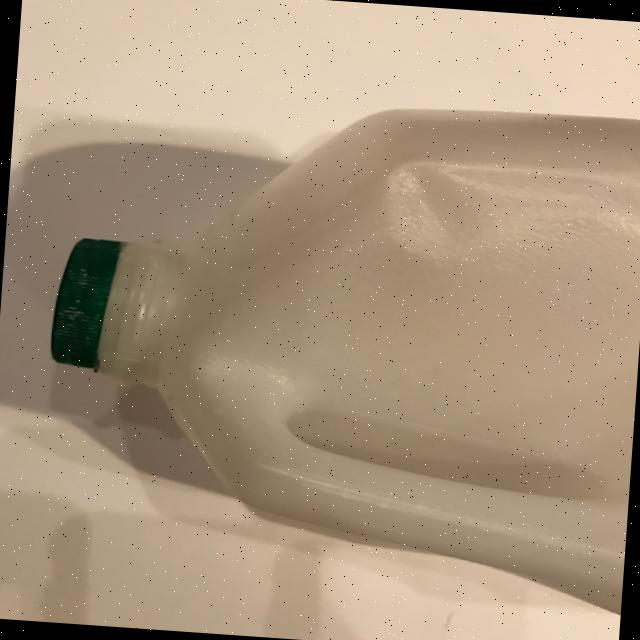plastic: (33, 77, 640, 614)
